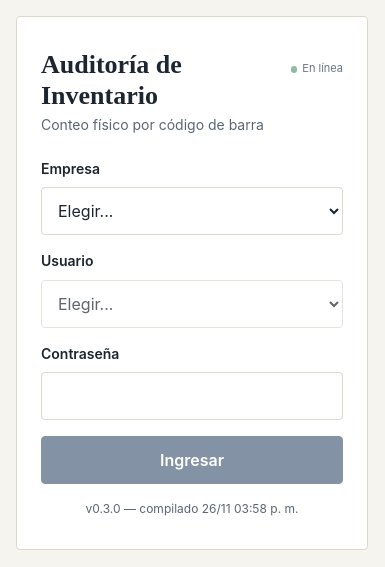
Test case: LoginPage › el boton Ingresar queda deshabilitado hasta elegir Empresa y Usuario
Expected: the button "Ingresar" is disabled, [41, 436, 343, 484]
Select "Comercial Depor" in the dropdown labelled "Empresa" at (192, 212), box [41, 188, 343, 236]
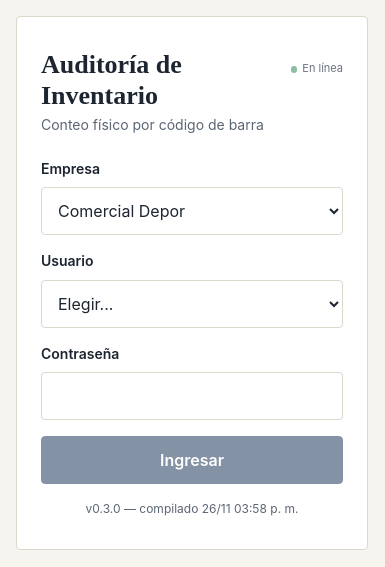
Select "Jorge Muñoz" in the dropdown labelled "Usuario" at (192, 304), box [41, 280, 343, 328]
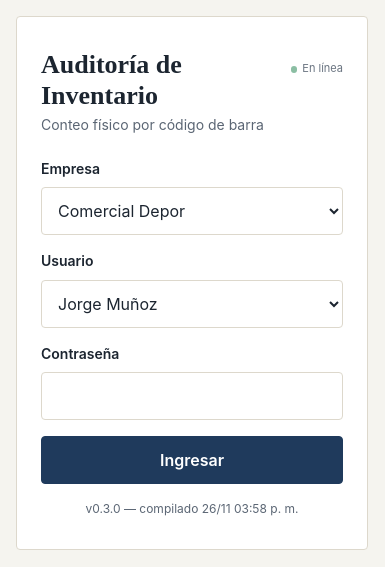
Expected: the button "Ingresar" is enabled, [41, 436, 343, 484]
